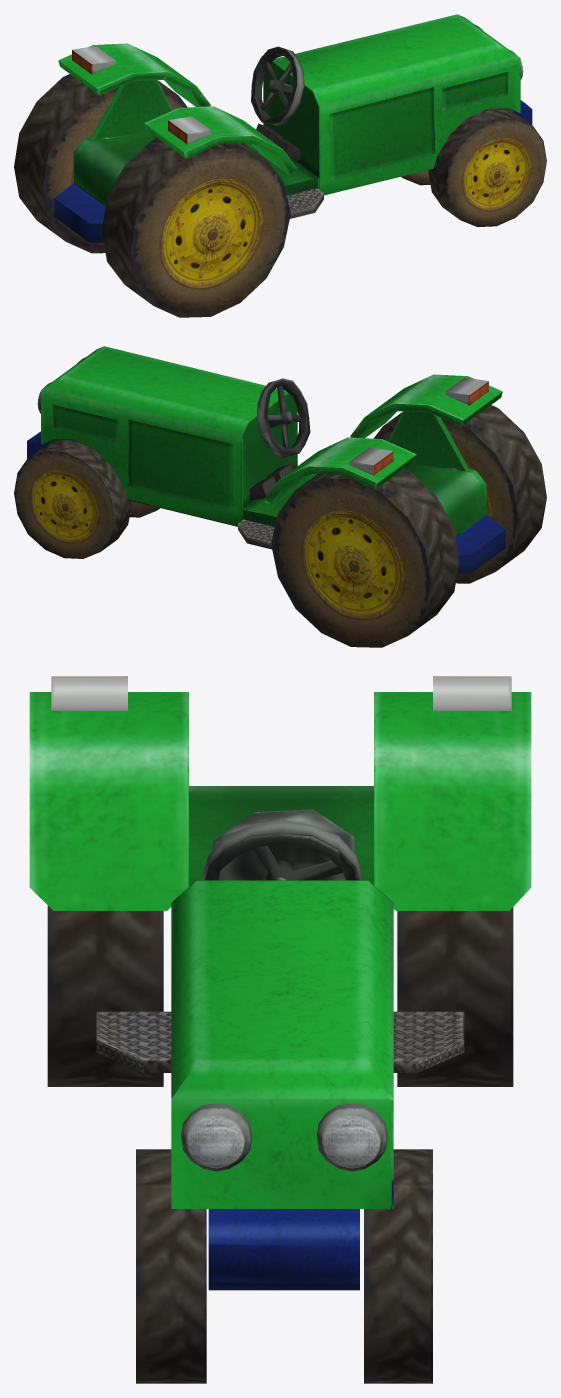
File: tractor.obj
3 renders of one model, top to bottom at view 1: azimuth 30°, elevation 25°; view 2: azimuth 150°, elevation 25°; view 3: azimuth 270°, elevation 25°, orthographic. The views are drawn at different scales.
Parts seen in each view (by area): view 1: Group; view 2: Group; view 3: Group.
Part boxes in pixels (bbox=[...]): Group: bbox=[14, 14, 546, 317]; Group: bbox=[14, 346, 546, 647]; Group: bbox=[29, 676, 531, 1383].
Size of the model in its own units: 120 by 50 by 59.15.
1 material, 1 textured.
